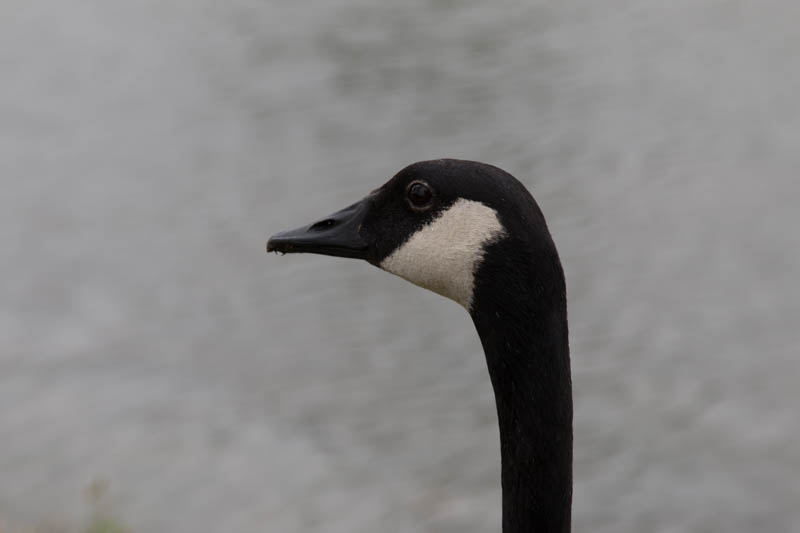goose-head: (266, 157, 567, 318)
